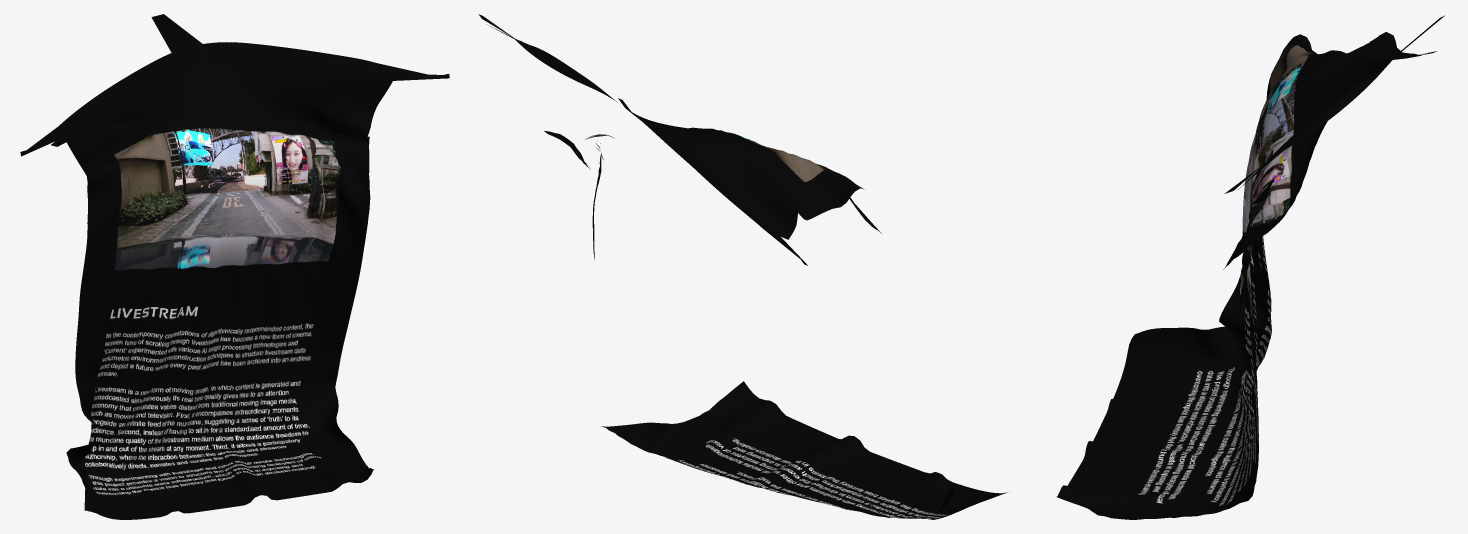
Rendered from tall.gltf.
3 renders of one model, left to right at view 1: azimuth 30°, elevation 25°; view 2: azimuth 150°, elevation 25°; view 3: azimuth 270°, elevation 25°, orthographic. The views are drawn at different scales.
Parts seen in each view (by area): view 1: pPlane4; view 2: pPlane4; view 3: pPlane4.
Part boxes in pixels (left/top/right/bottom): pPlane4: left=20, top=14, right=449, bottom=519; pPlane4: left=479, top=14, right=1007, bottom=519; pPlane4: left=1056, top=15, right=1444, bottom=519.
Bounding box in the file's own units: 5.05 × 4.47 × 3.46.
Materials: 1 (1 with a texture image).
